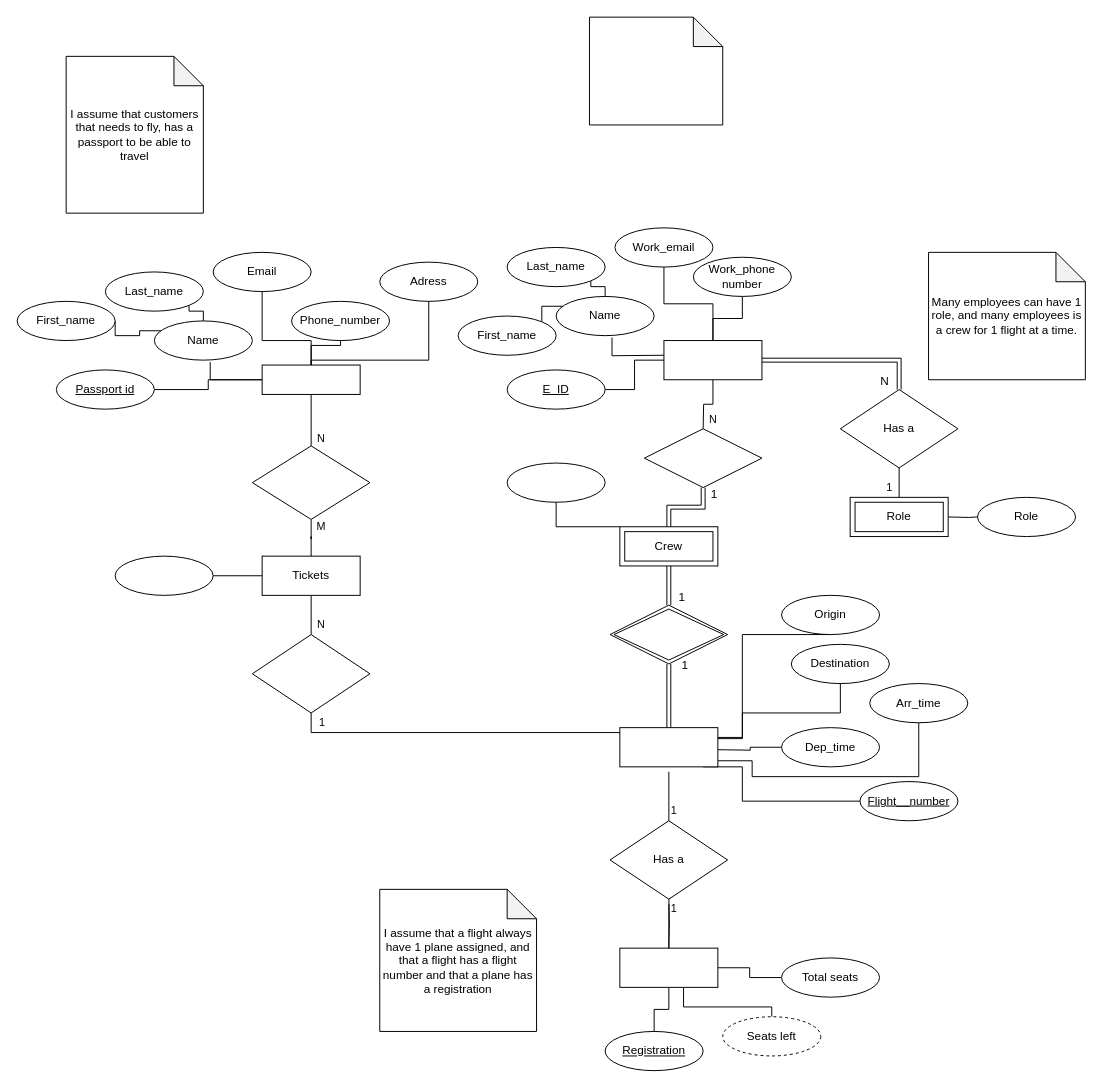
Image size: 1103x1088. Some labels were removed from this diagram. The centre of each missing label's shape, as x and y in pixels:
Can buy: (310,482)
Customers: (310,379)
Employees: (712,360)
Flight_number: (555,482)
Flights: (668,747)
For: (310,673)
Has crew: (668,634)
I assume that Employees has an employee id: (655,70)
Is crew: (702,458)
Plane: (668,967)
Price: (163,575)
